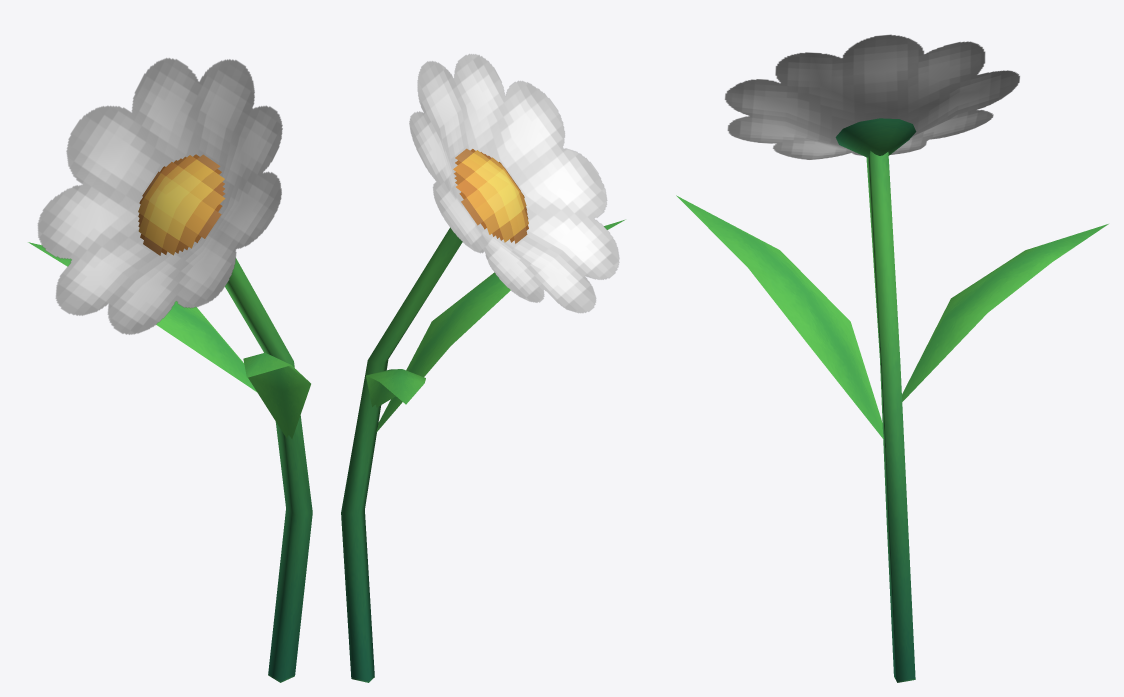
The model's file is Flower_Daisy_2.glb.
3 renders of one model, left to right at view 1: azimuth 30°, elevation 25°; view 2: azimuth 150°, elevation 25°; view 3: azimuth 270°, elevation 25°, orthographic. The views are drawn at different scales.
Visible parts, largest first — view 1: Cone.082, Cube.083, Cone.083, object6.064, object6.065; view 2: Cone.082, Cube.083, Cone.083, object6.064, object6.065; view 3: Cone.082, Cube.083, object6.064, object6.065, Cylinder.087.
Part boxes in pixels (x1,y1,x2,y2): Cone.082: (37, 58, 282, 334); Cube.083: (225, 258, 312, 682); Cone.083: (138, 154, 225, 255); object6.064: (243, 353, 310, 438); object6.065: (28, 242, 256, 391); Cone.082: (409, 54, 619, 312); Cube.083: (341, 227, 462, 682); Cone.083: (453, 148, 528, 243); object6.064: (376, 219, 625, 432); object6.065: (366, 369, 425, 407); Cone.082: (725, 34, 1019, 159); Cube.083: (866, 151, 915, 682); object6.064: (676, 195, 883, 438); object6.065: (902, 224, 1108, 401); Cylinder.087: (835, 118, 916, 157).
Bounding box in the file's own units: 0.2041 × 0.4741 × 0.2903.
Materials: 4 (4 with a texture image).
